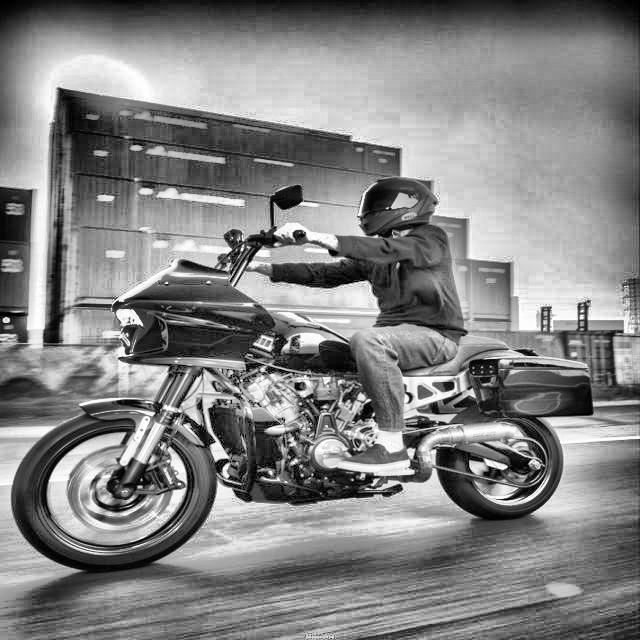Helmet: (353, 174, 442, 238)
